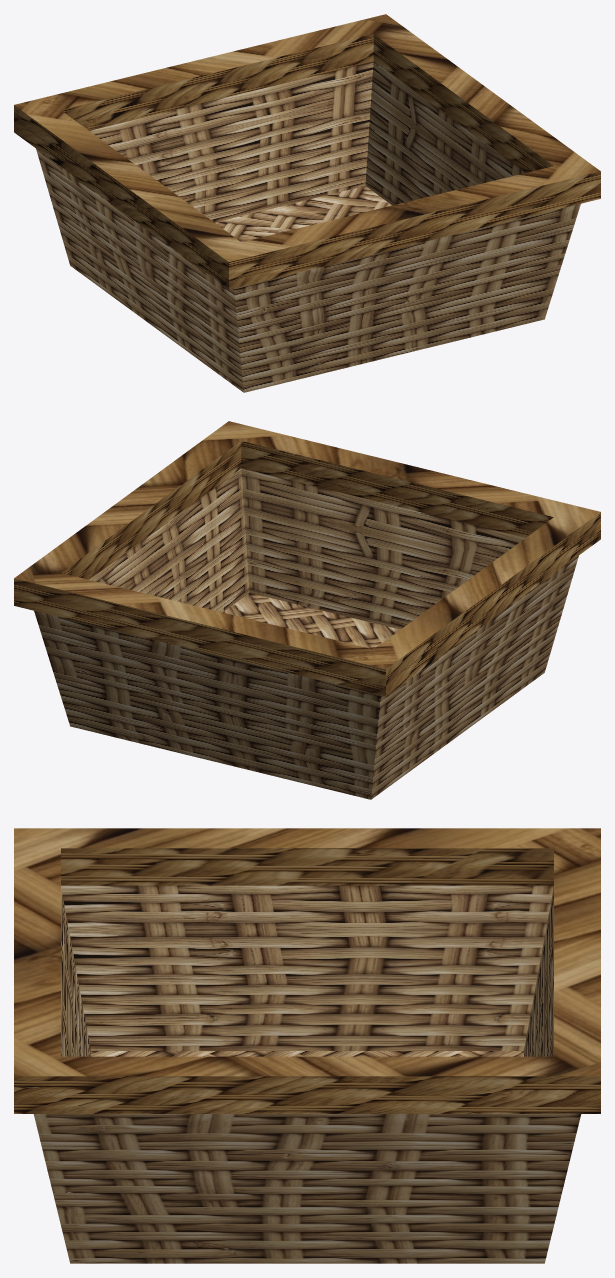
Rendered from Bucket.glb.
The picture shows the model from 3 angles, top to bottom: view 1: azimuth 30°, elevation 25°; view 2: azimuth 150°, elevation 25°; view 3: azimuth 270°, elevation 25°; orthographic projection. The views are drawn at different scales.
Visible parts, largest first — view 1: 원통, 원통 2, 원통 1; view 2: 원통, 원통 2, 원통 1; view 3: 원통, 원통 2, 원통 1.
Part boxes in pixels (x1,y1,x2,y2): 원통: [36, 61, 580, 392]; 원통 2: [14, 14, 600, 289]; 원통 1: [215, 186, 391, 242]; 원통: [34, 468, 578, 799]; 원통 2: [14, 421, 600, 696]; 원통 1: [223, 593, 399, 649]; 원통: [33, 885, 581, 1263]; 원통 2: [14, 828, 600, 1113]; 원통 1: [91, 1051, 523, 1056].
Size of the model in its own units: 1.81 by 0.7175 by 1.81.
3 materials, 3 textured.
